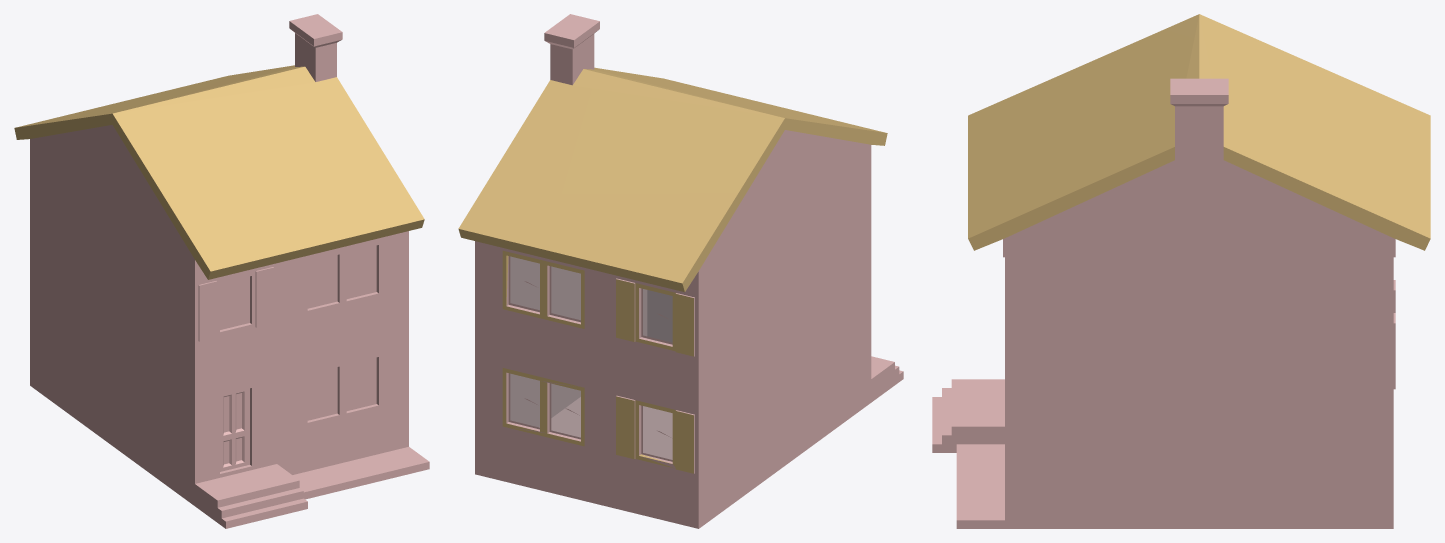
Rendered from town-yellow house.fbx.
3 views of the same model, side by side, from view 1: azimuth 30°, elevation 25°; view 2: azimuth 150°, elevation 25°; view 3: azimuth 270°, elevation 25° (orthographic). The views are drawn at different scales.
Parts seen in each view (by area): view 1: pasted__polySurface6814; view 2: pasted__polySurface6814; view 3: pasted__polySurface6814.
Boxes of the visible parts, left/top/right/bottom form: pasted__polySurface6814: left=14, top=14, right=429, bottom=528; pasted__polySurface6814: left=458, top=14, right=903, bottom=528; pasted__polySurface6814: left=932, top=14, right=1430, bottom=528.
Bounding box in the file's own units: 9.6 × 15.59 × 16.16.
